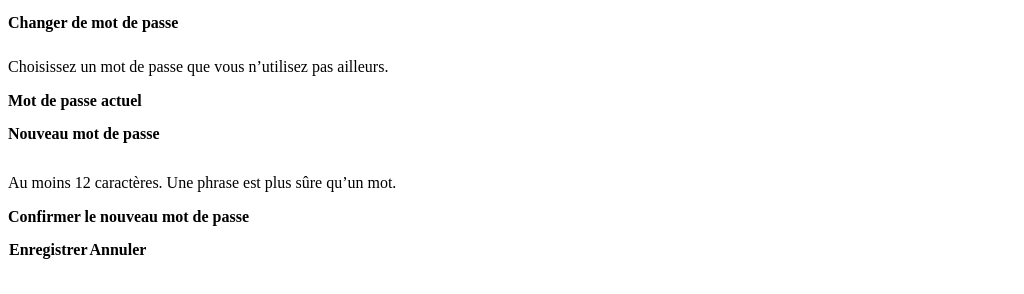
Scenario: ChangePasswordPage › drops the mismatch as soon as the host starts correcting it
Type "le-mot-de-passe-actuel" into the password field labelled "Mot de passe actuel" at (512, 118), box [8, 110, 1016, 125]
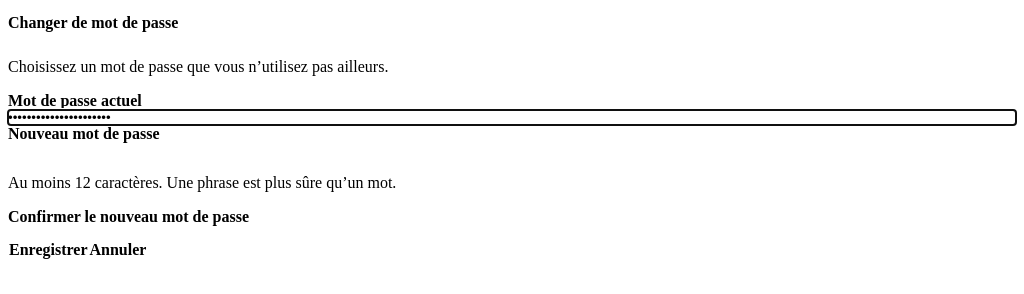
Type "une-phrase-de-passe-solide" into the password field labelled "Nouveau mot de passe" at (512, 151), box [8, 143, 1016, 158]
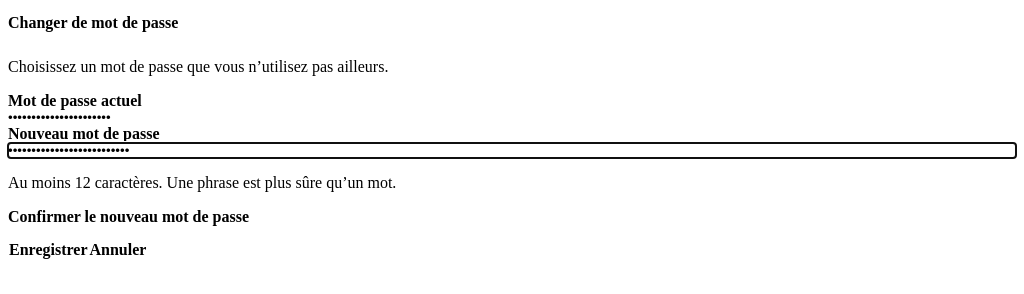
Type "faute" into the password field labelled "Confirmer le nouveau mot de passe" at (512, 234), box [8, 226, 1016, 241]
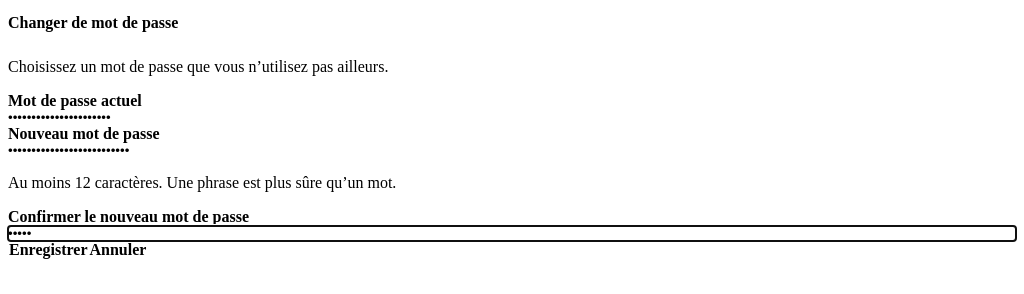
Click the button "Enregistrer" at (48, 250), box [8, 241, 88, 259]
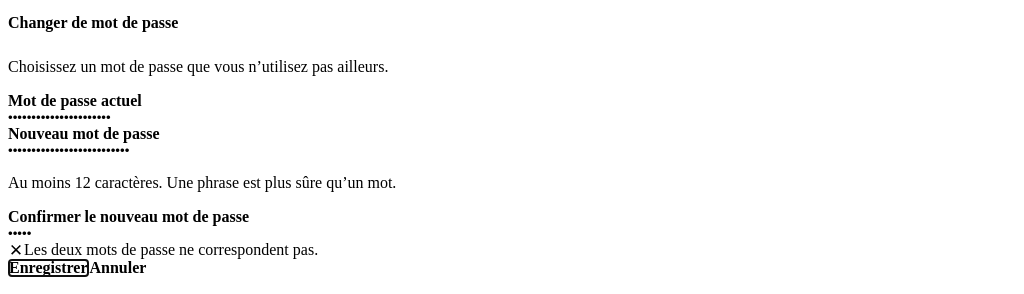
Check: the message "Les deux mots de passe ne correspondent pas." is shown, box [8, 241, 318, 258]
Type "x" into the password field labelled "Confirmer le nouveau mot de passe" at (512, 234), box [8, 226, 1016, 241]
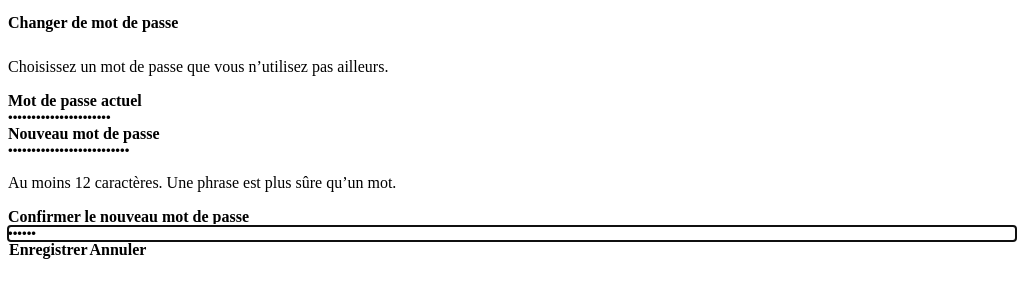
Check: the message "Les deux mots de passe ne correspondent pas." is gone
